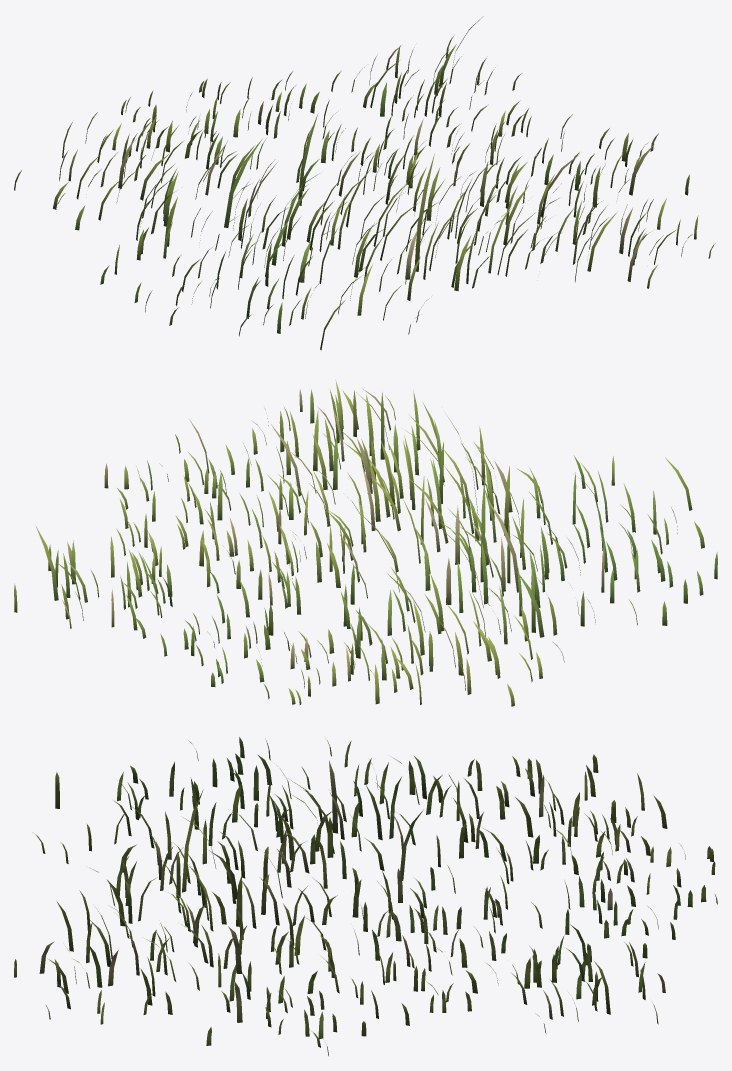
Rendered from eco_turf_meadow_a_LOD1.glb.
3 views of the same model, one above another, from view 1: azimuth 30°, elevation 25°; view 2: azimuth 150°, elevation 25°; view 3: azimuth 270°, elevation 25° (orthographic). The views are drawn at different scales.
Visible parts, largest first — view 1: eco_turf_meadow_a_LOD1; view 2: eco_turf_meadow_a_LOD1; view 3: eco_turf_meadow_a_LOD1.
Boxes of the visible parts, x1,y1,x2,y2 form: eco_turf_meadow_a_LOD1: (14, 16, 715, 350); eco_turf_meadow_a_LOD1: (14, 380, 717, 706); eco_turf_meadow_a_LOD1: (14, 737, 717, 1055).
Bounding box in the file's own units: 1.89 × 0.3471 × 1.86.
